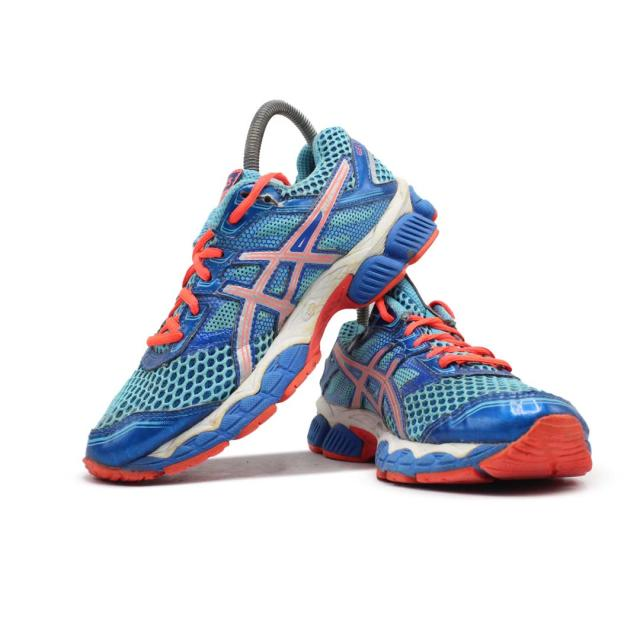heel: (318, 123, 403, 234)
midsole: (84, 180, 439, 482), (309, 397, 591, 481)
uppersole: (84, 162, 371, 465), (323, 276, 579, 442)
